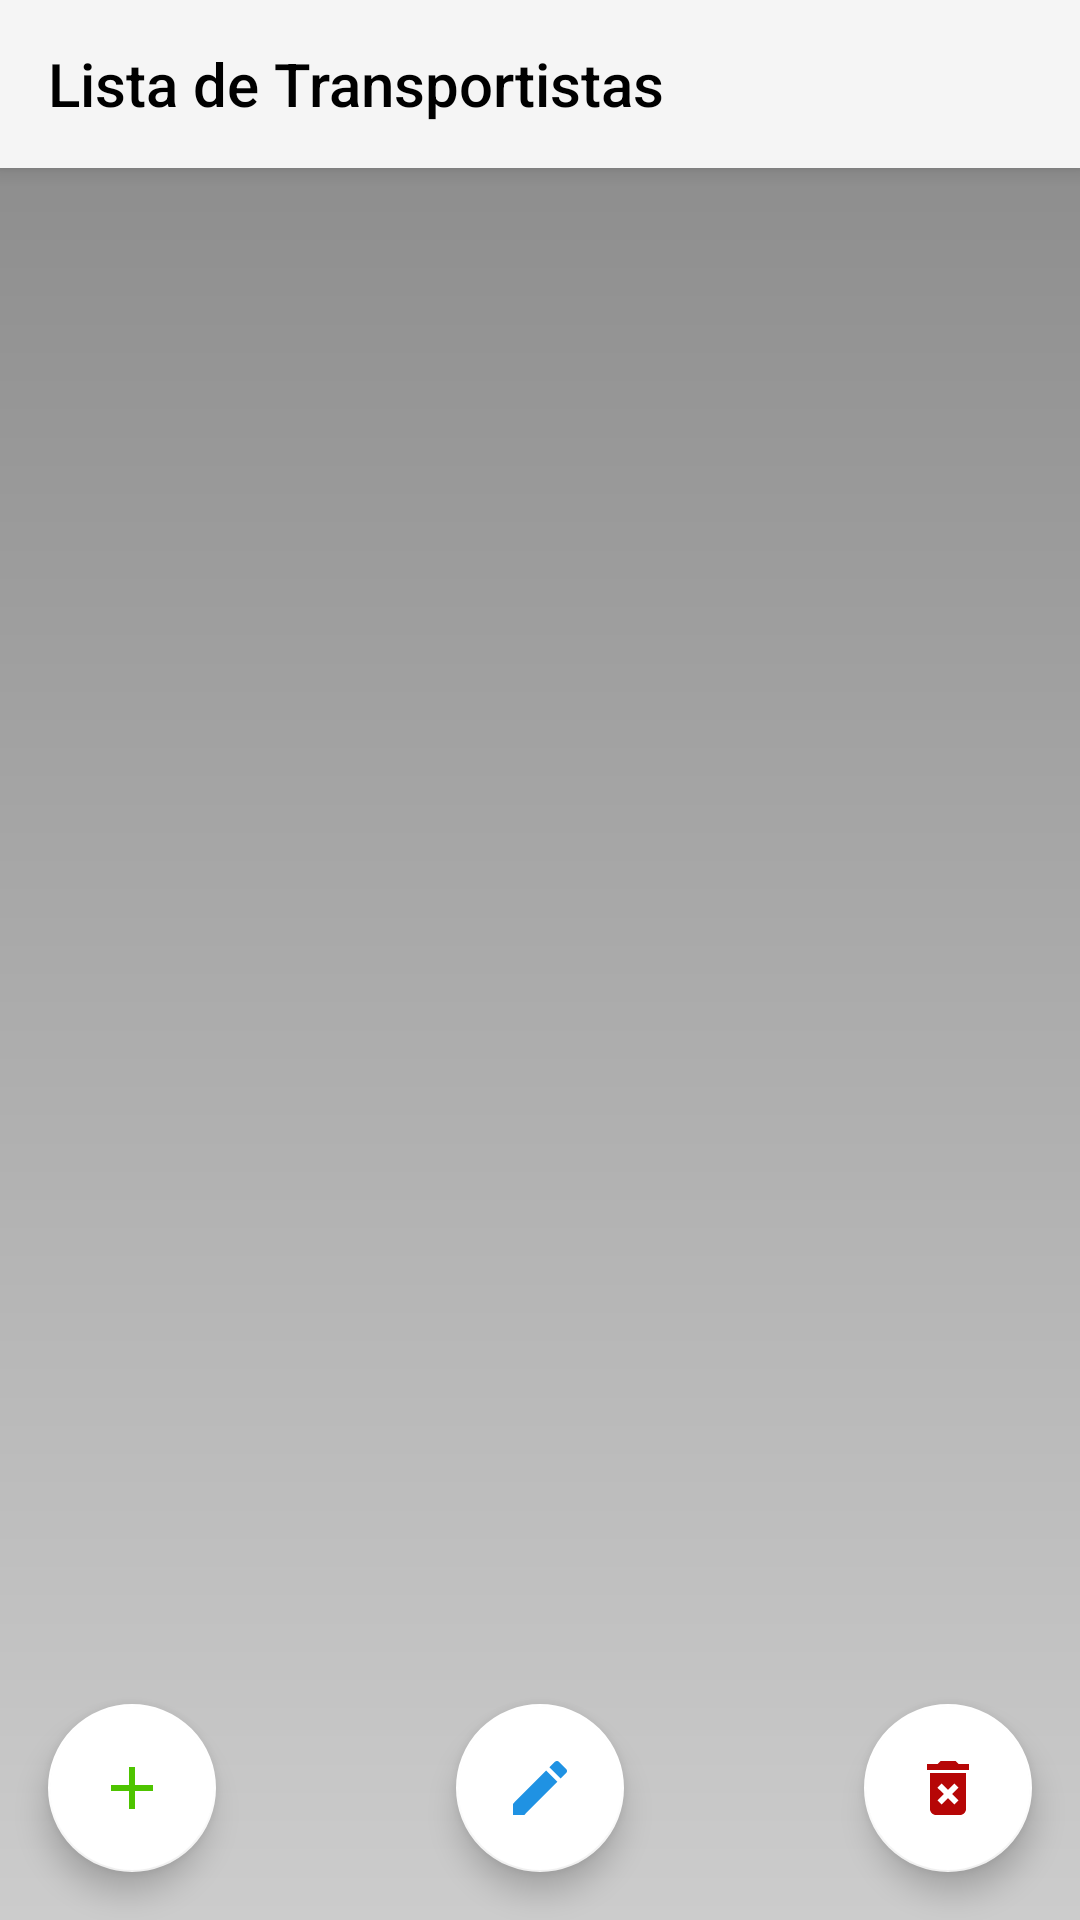

Named icons in this screenshot (1080×1920) and their centers, point (x, y):
add: point (132, 1788)
delete forever: point (948, 1788)
edit: point (540, 1788)
